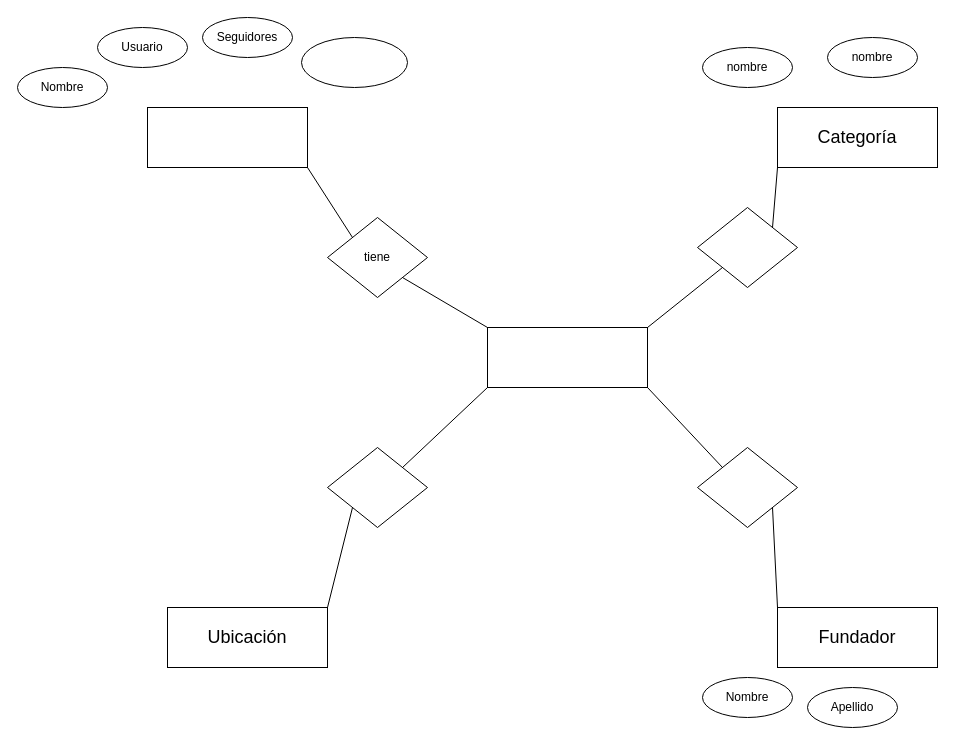
The diagram is 955 pixels wide and 745 high, and some of its shapes have lost their labels. The centre of each missing label's shape, as x and y in pixels:
"abarca" goes at pixel 747 247.
"act_seguidores" goes at pixel 354 62.
"fundada_por" goes at pixel 747 487.
"Medio de prensa" goes at pixel 567 357.
"Red social" goes at pixel 227 137.
"se_ubica" goes at pixel 377 487.
